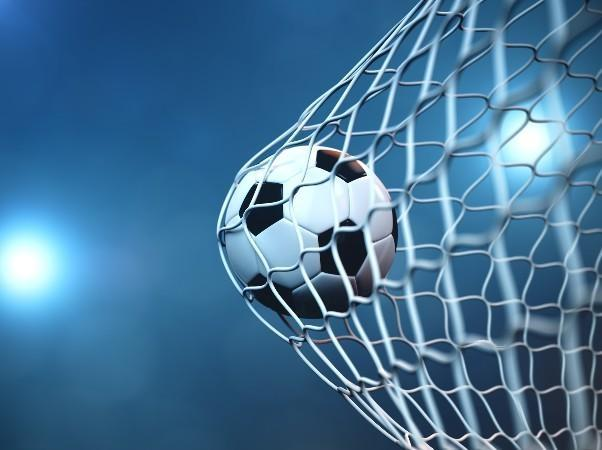Sports-Ball: (233, 168, 385, 316)
